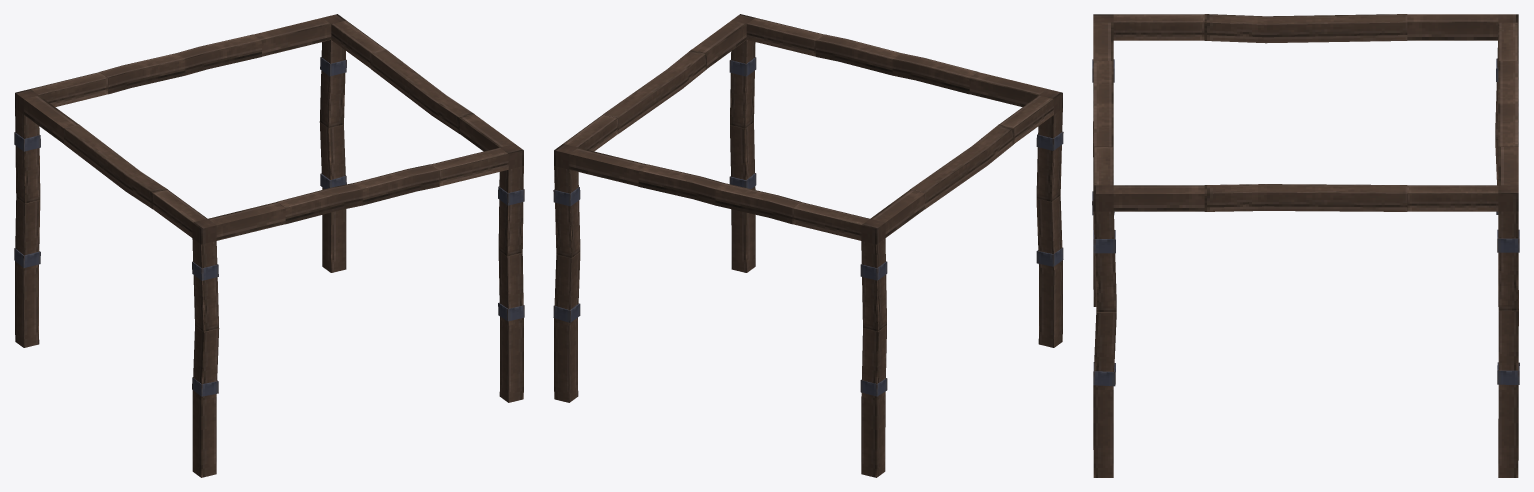
File: wood_support_square.glb
3 views of the same model, side by side, from view 1: azimuth 30°, elevation 25°; view 2: azimuth 150°, elevation 25°; view 3: azimuth 270°, elevation 25° (orthographic). The views are drawn at different scales.
Visible parts, largest first — view 1: wood_support_square; view 2: wood_support_square; view 3: wood_support_square.
Boxes of the visible parts, bbox=[...] form: wood_support_square: bbox=[14, 14, 524, 477]; wood_support_square: bbox=[553, 14, 1063, 477]; wood_support_square: bbox=[1092, 14, 1519, 477].
Size of the model in its own units: 4.23 by 3.11 by 4.23.
1 material, 1 textured.
